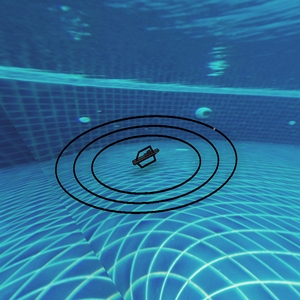circle: (32, 98, 248, 222)
submarine: (142, 141, 161, 160)
